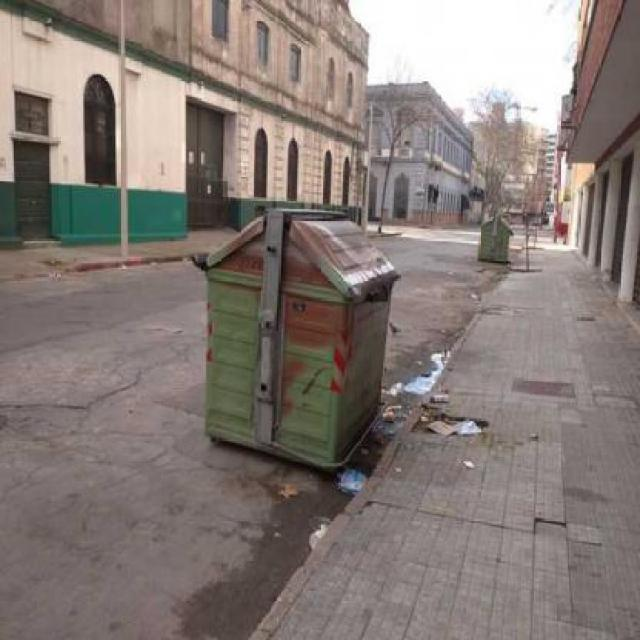garbage: (380, 389, 493, 448), (276, 465, 376, 503), (303, 520, 344, 568)
